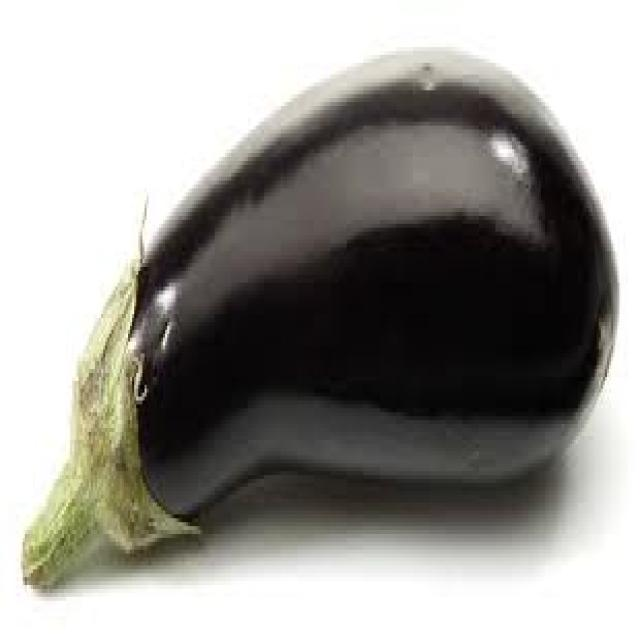aubergine: (16, 27, 624, 589)
